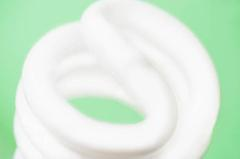lightbulb: (12, 0, 220, 159)
